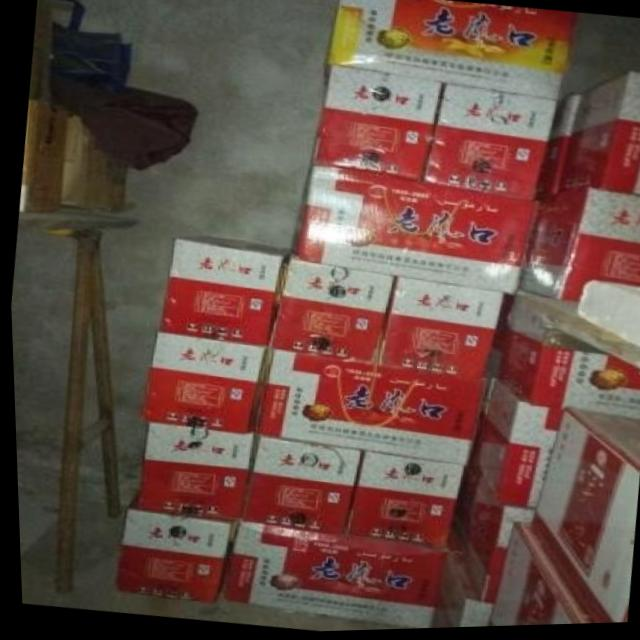box: (287, 164, 536, 297), (255, 350, 481, 467), (324, 0, 578, 103), (525, 409, 640, 627), (219, 522, 440, 631), (307, 65, 448, 184), (421, 84, 554, 204), (483, 322, 640, 421), (152, 237, 289, 347), (263, 254, 394, 365), (135, 332, 273, 435), (518, 190, 640, 303), (376, 277, 502, 381), (459, 381, 560, 510), (235, 436, 360, 537), (111, 507, 237, 605), (134, 422, 255, 524), (343, 452, 460, 550), (478, 523, 586, 629), (445, 469, 526, 605), (556, 75, 640, 198), (61, 107, 128, 211), (425, 543, 486, 631), (534, 94, 580, 202), (19, 101, 63, 213), (570, 284, 640, 353)
